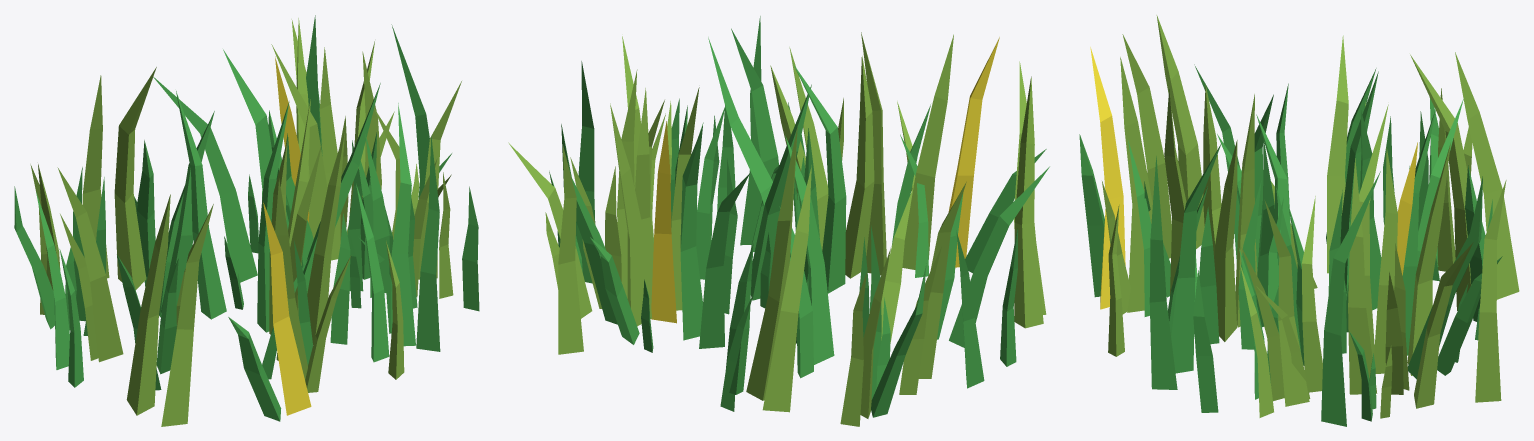
The model's file is grass_yellowing.glb.
3 views of the same model, side by side, from view 1: azimuth 30°, elevation 25°; view 2: azimuth 150°, elevation 25°; view 3: azimuth 270°, elevation 25° (orthographic). The views are drawn at different scales.
Visible parts, largest first — view 1: Grass; view 2: Grass; view 3: Grass.
Boxes of the visible parts, bbox=[...] form: Grass: bbox=[14, 15, 479, 426]; Grass: bbox=[508, 16, 1049, 426]; Grass: bbox=[1079, 15, 1519, 426].
Size of the model in its own units: 0.4878 by 0.2877 by 0.414.
